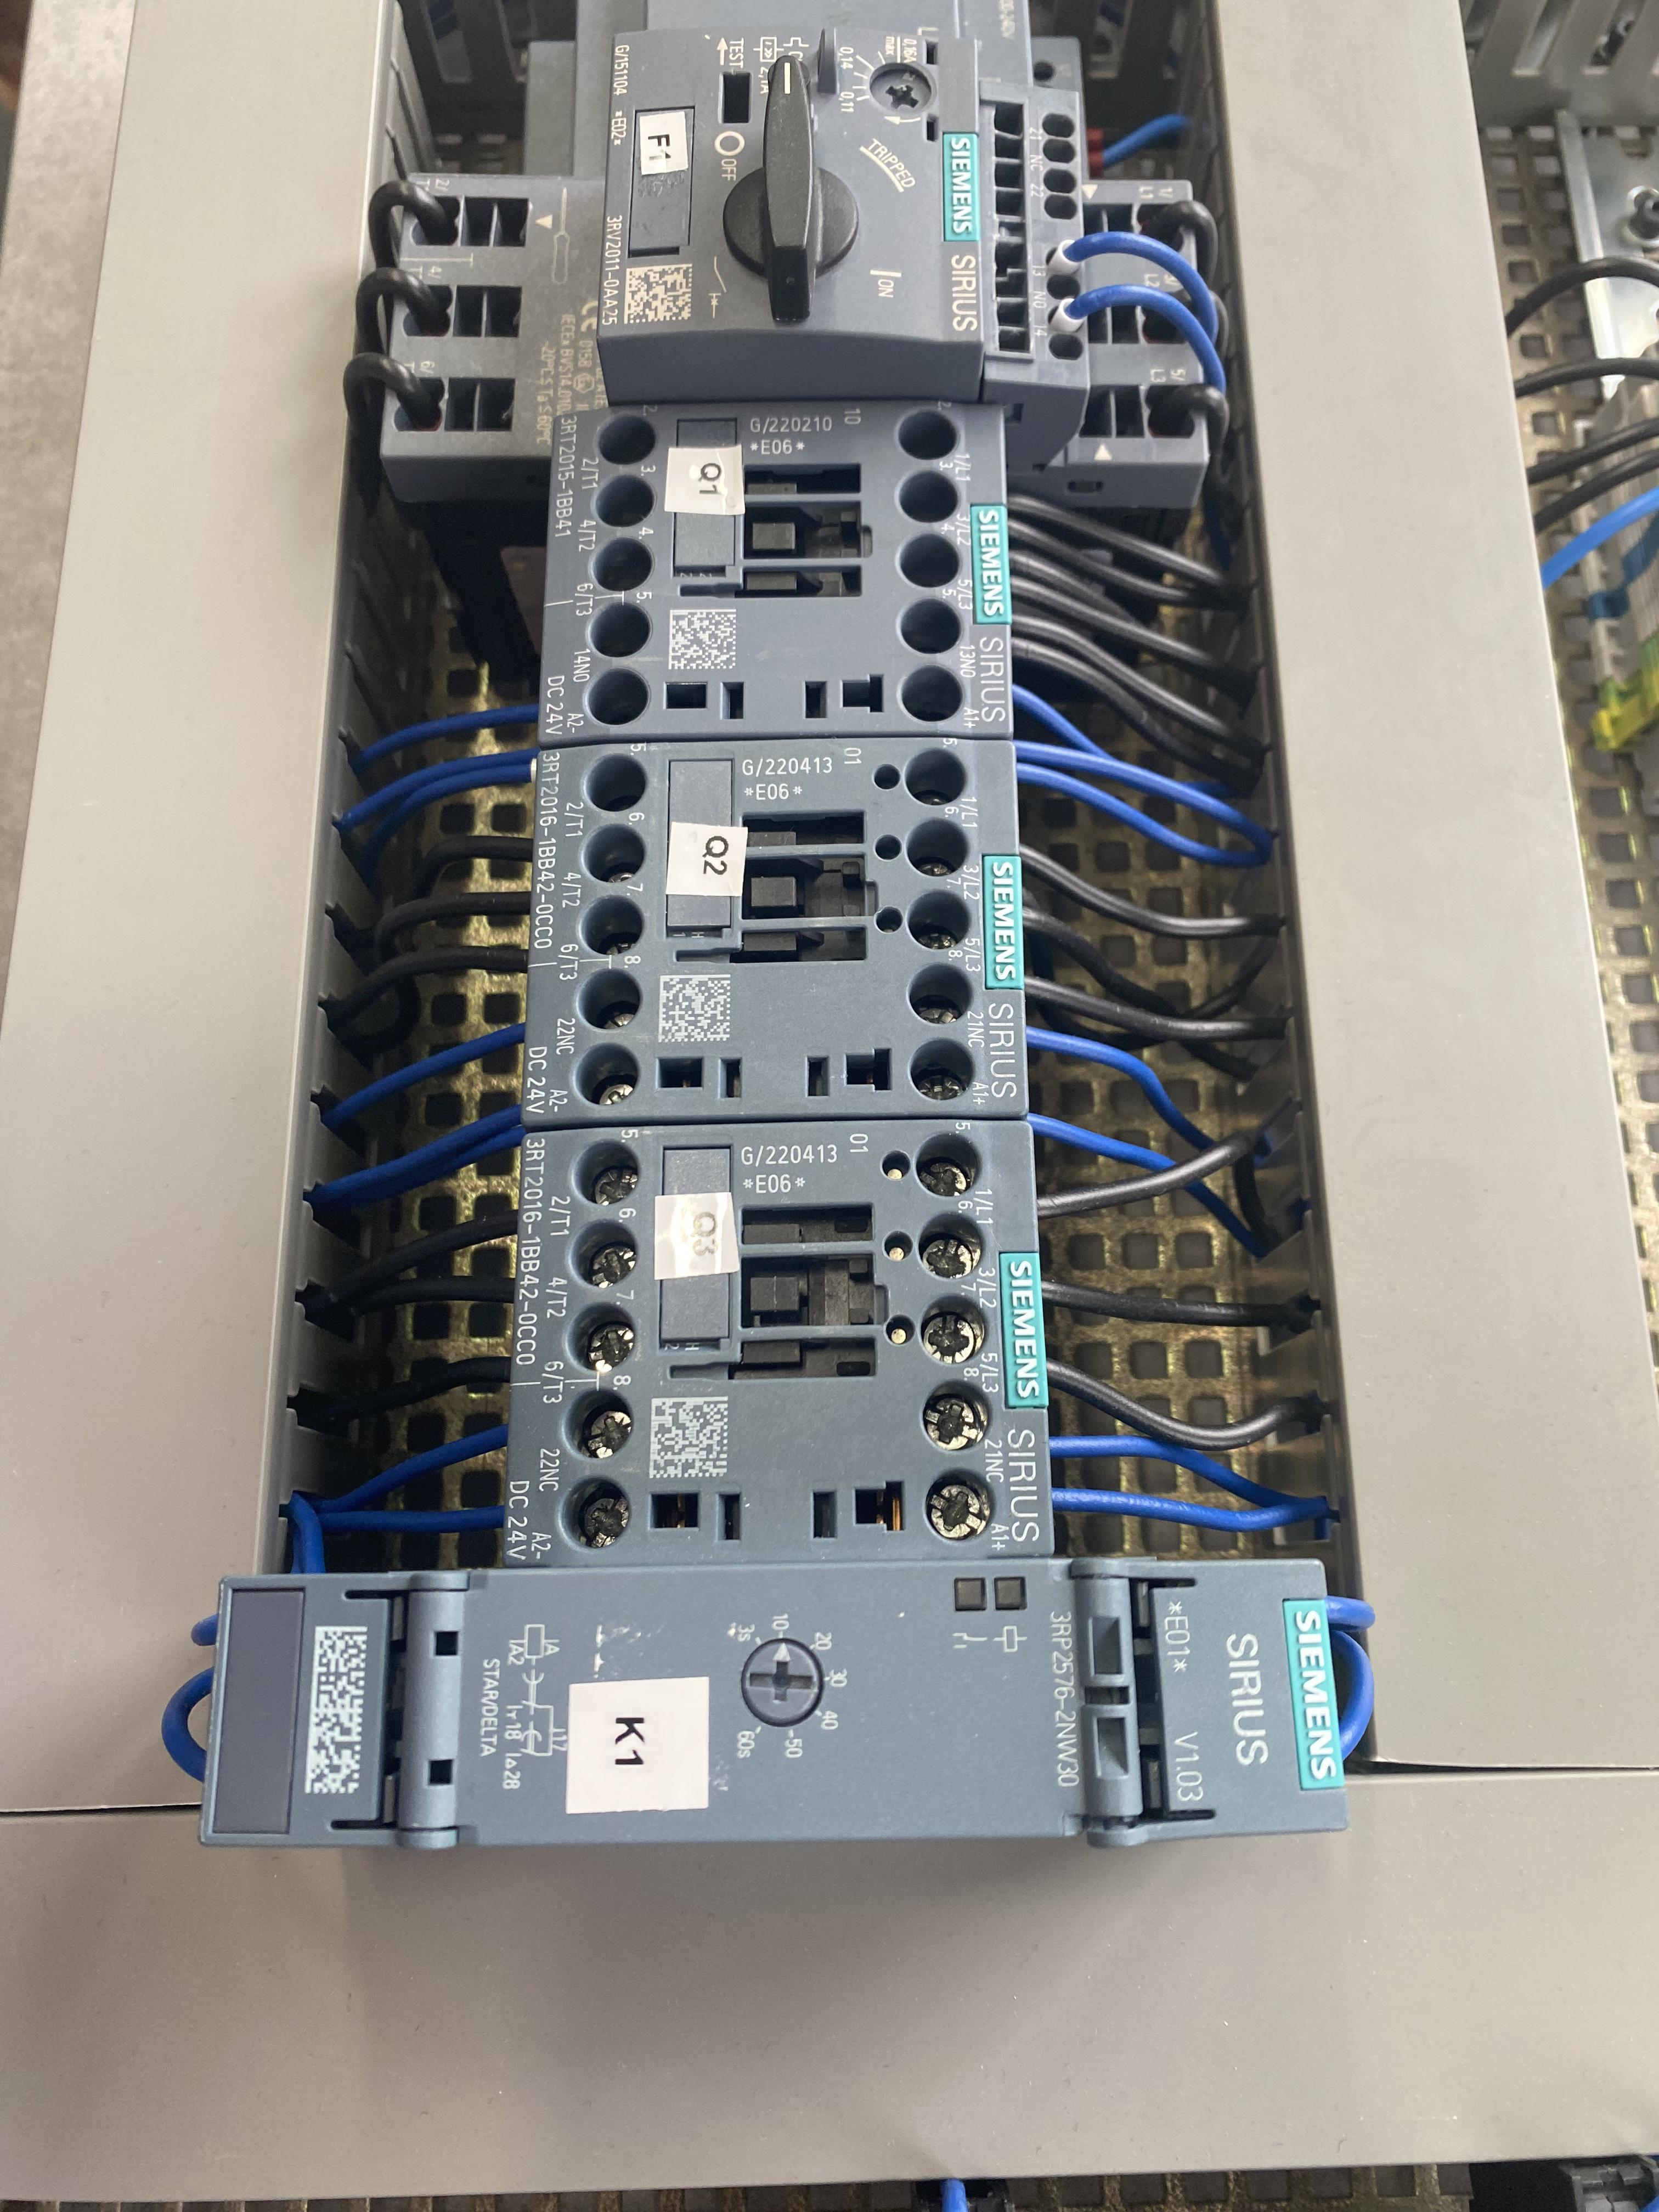F1: (385, 30, 1204, 462)
K1: (202, 1548, 1352, 1850)
Q: (537, 401, 1006, 747)
Q2: (525, 738, 1021, 1127)
Q3: (502, 1115, 1054, 1564)
T1: (525, 0, 1080, 179)
